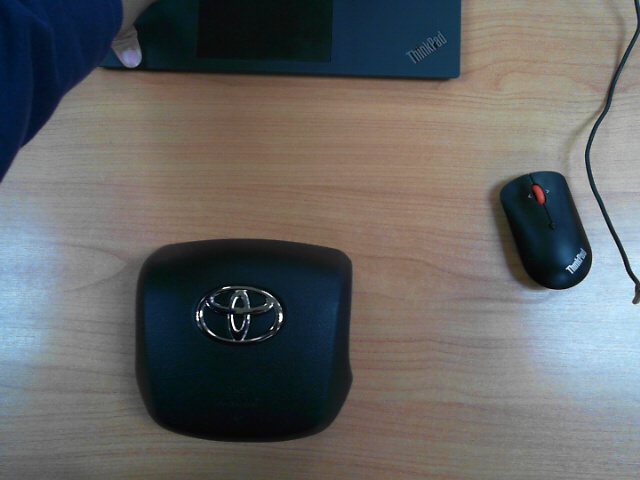AirbagV2: (134, 234, 355, 444)
